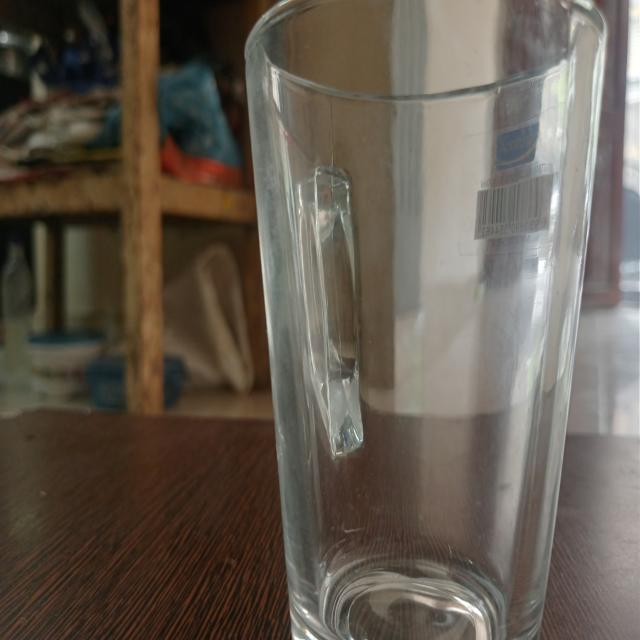glass-VX4N: (242, 1, 606, 640)
